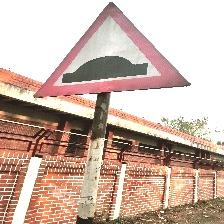Speed-breaker: (37, 6, 185, 96)
